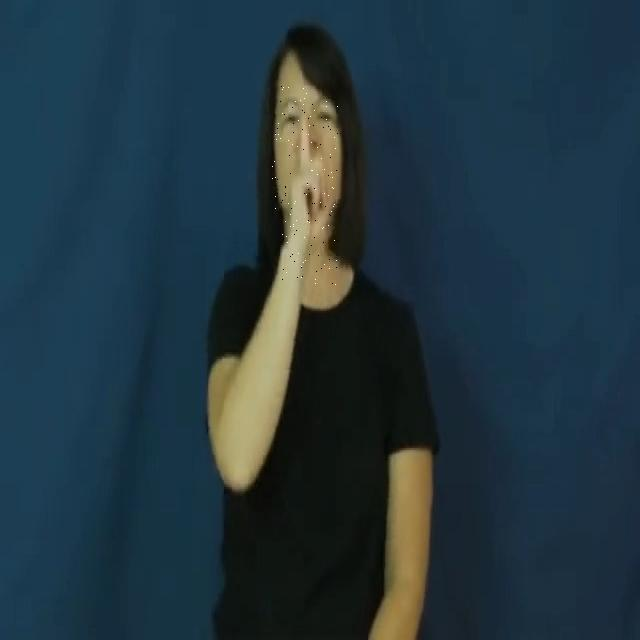cold: (272, 84, 338, 287)
